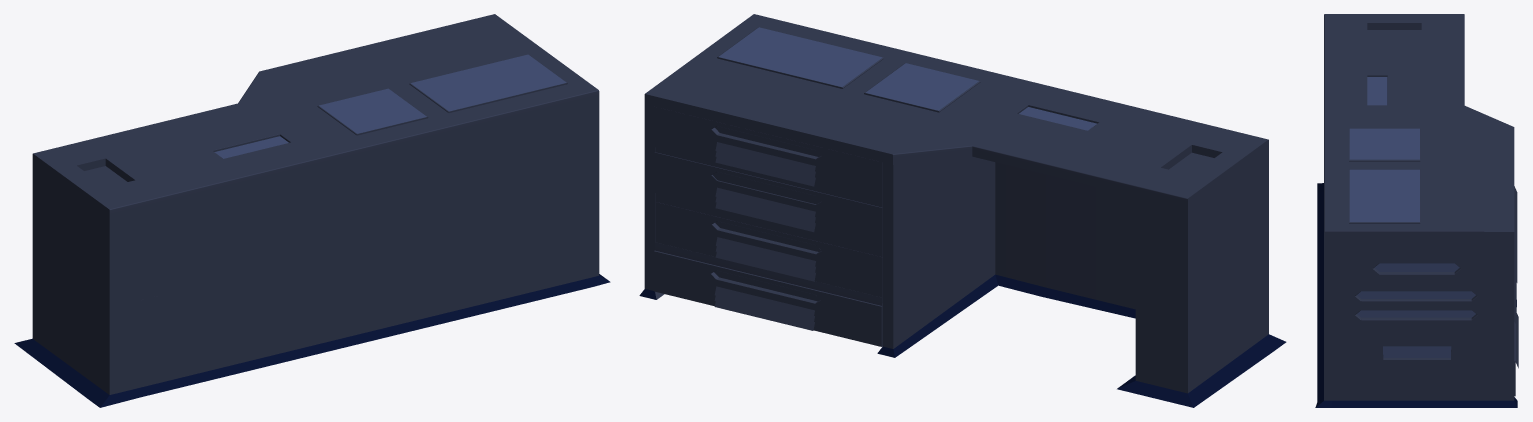
Rendered from desk-idel.fbx.
3 renders of one model, left to right at view 1: azimuth 30°, elevation 25°; view 2: azimuth 150°, elevation 25°; view 3: azimuth 270°, elevation 25°, orthographic. The views are drawn at different scales.
Parts seen in each view (by area): view 1: desk_3:desk_base, desk_3:board1, desk_3:board2; view 2: desk_3:desk_base, desk_3:drawer6, desk_3:drawer3, desk_3:drawer5, desk_3:drawer4, desk_3:board1, desk_3:board2; view 3: desk_3:desk_base, desk_3:board1, desk_3:board2, desk_3:drawer6, desk_3:drawer3.
Boxes of the visible parts, box(x1,y1,x2,y2) form: desk_3:desk_base: box(14, 14, 610, 407); desk_3:board1: box(409, 54, 567, 112); desk_3:board2: box(317, 88, 428, 135); desk_3:desk_base: box(639, 14, 1286, 407); desk_3:drawer6: box(654, 250, 882, 346); desk_3:drawer3: box(654, 107, 882, 202); desk_3:drawer5: box(655, 202, 882, 297); desk_3:drawer4: box(654, 152, 882, 247); desk_3:board1: box(717, 27, 883, 88); desk_3:board2: box(864, 63, 980, 112); desk_3:desk_base: box(1315, 14, 1517, 407); desk_3:board1: box(1349, 169, 1420, 223); desk_3:board2: box(1349, 128, 1420, 161); desk_3:drawer6: box(1514, 313, 1518, 396); desk_3:drawer3: box(1506, 186, 1517, 243).
Size of the model in its own units: 7.89 by 2.87 by 2.99.
